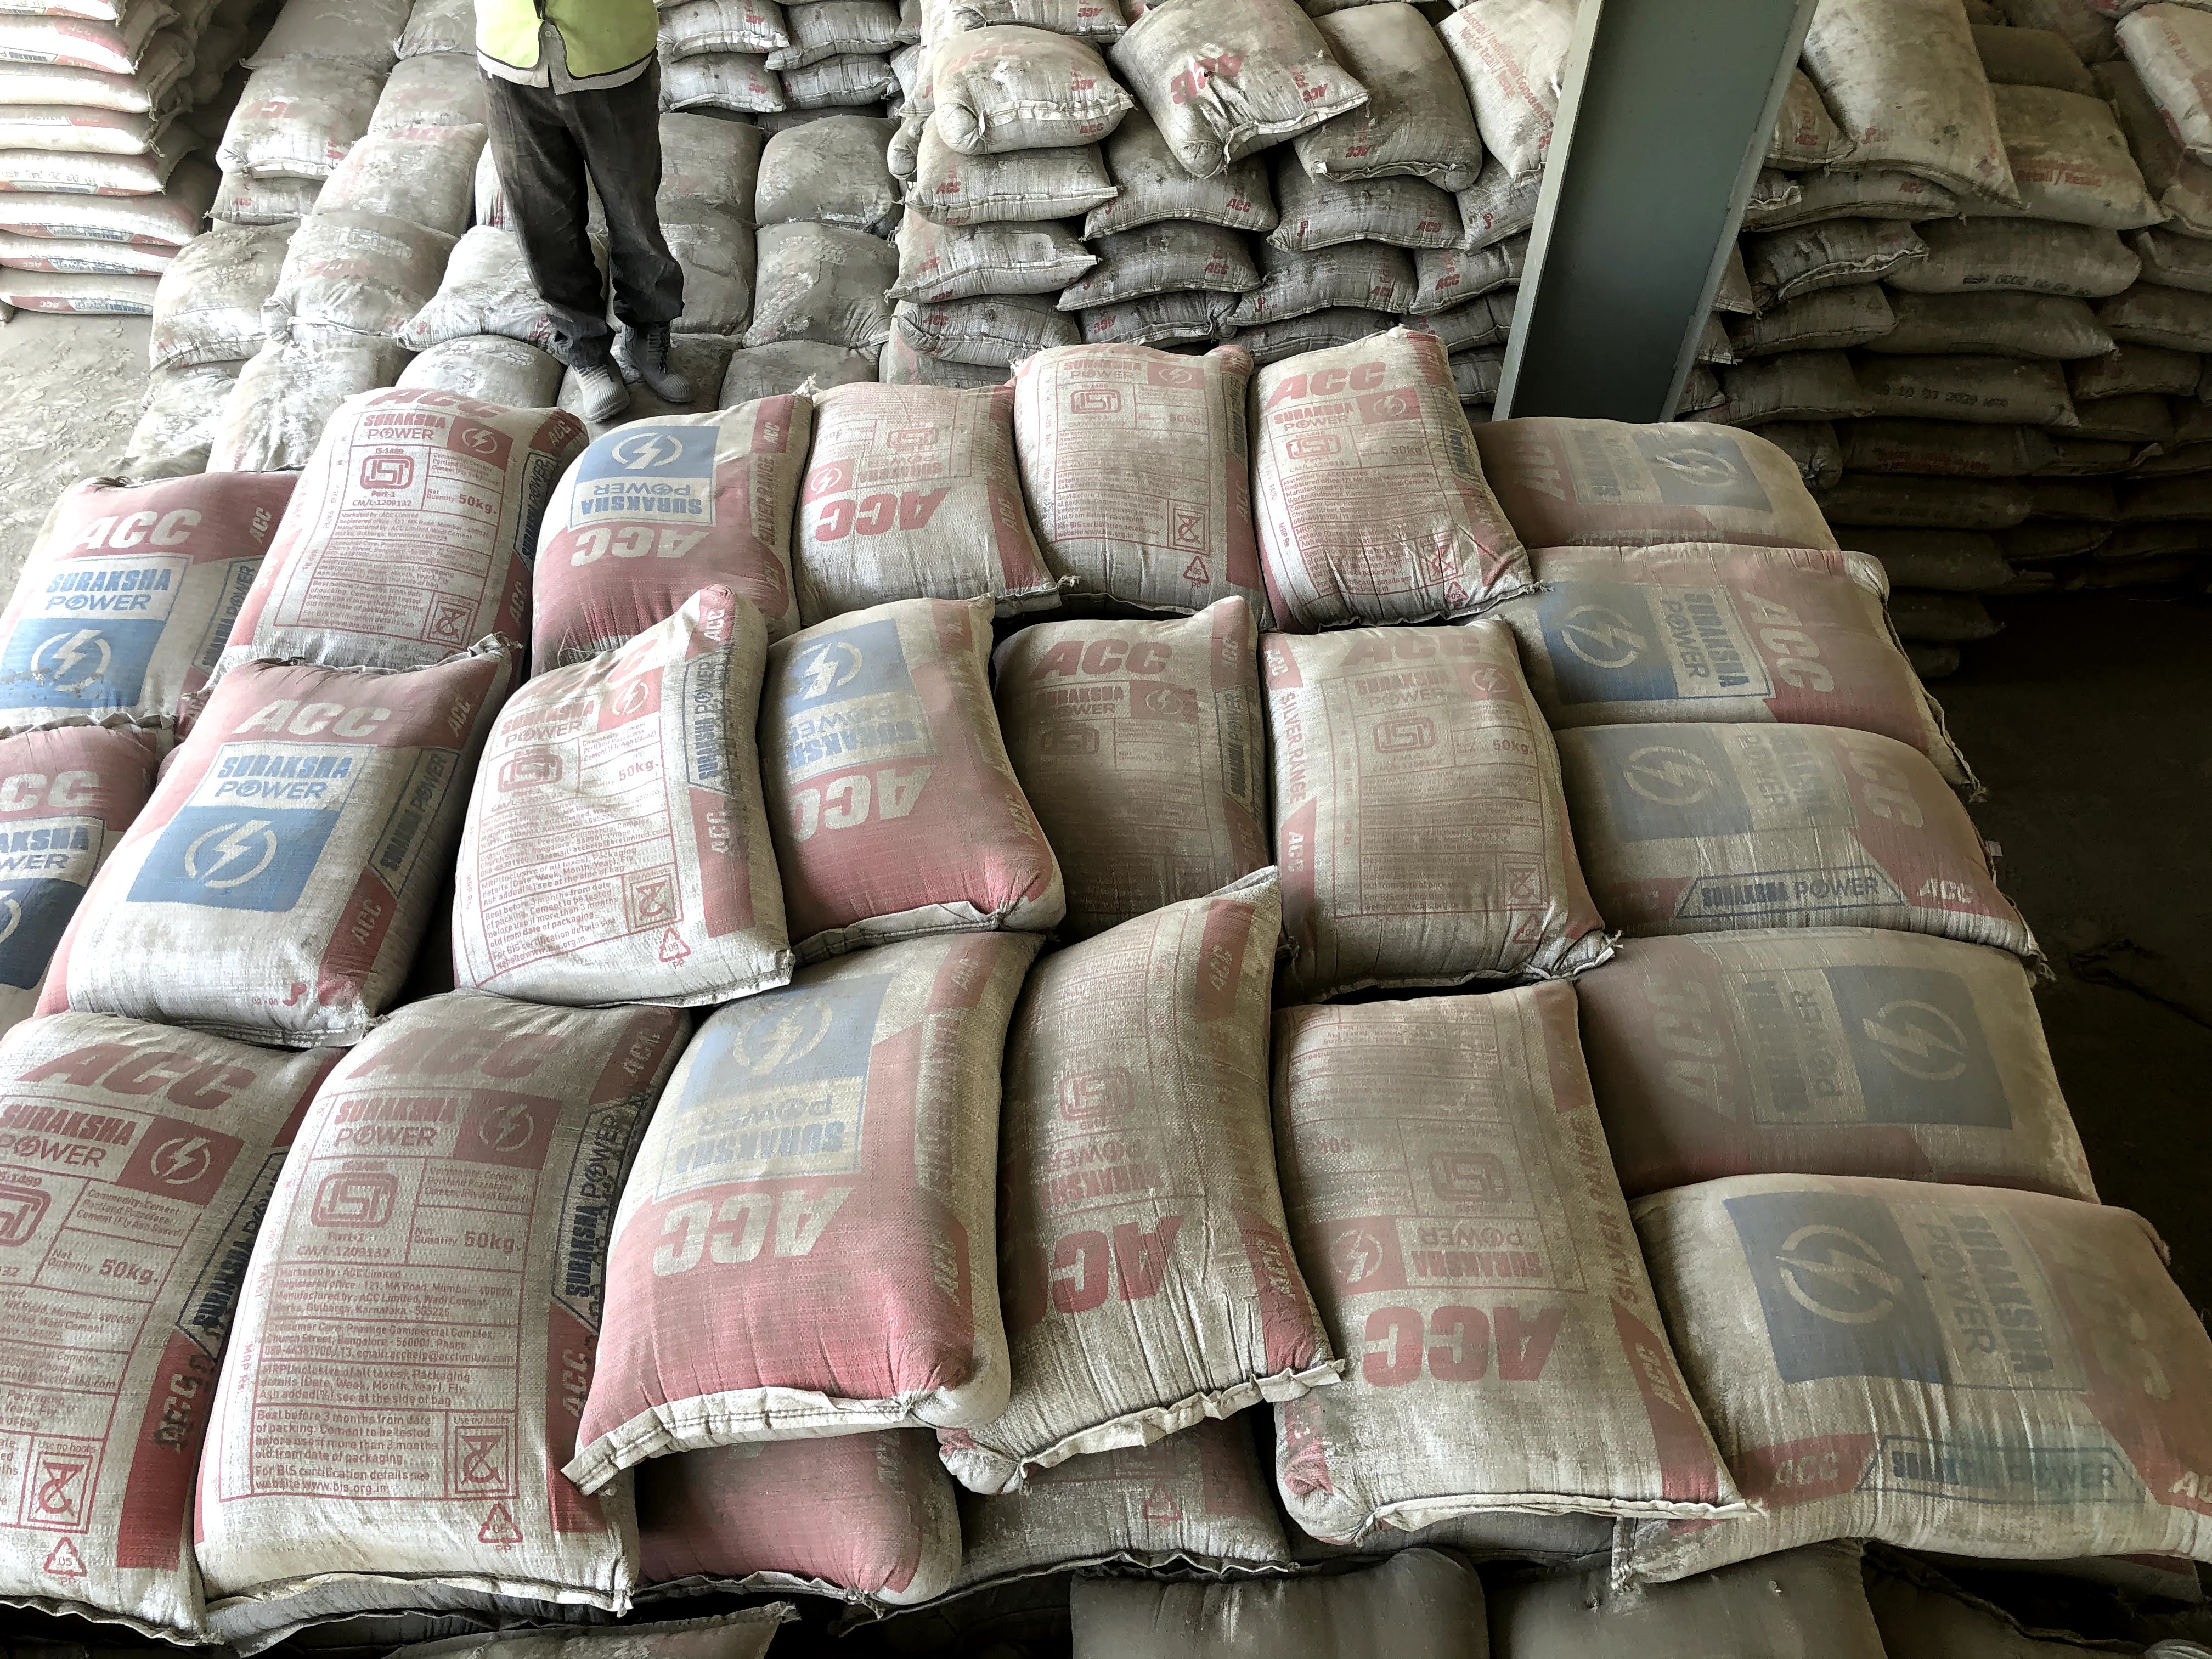cement bag: (1590, 1168, 2205, 1568), (1252, 1018, 1719, 1511), (589, 938, 981, 1450), (317, 995, 622, 1565), (981, 938, 1308, 1406), (10, 1009, 249, 1631), (103, 674, 489, 976), (1562, 723, 2029, 943), (1590, 943, 2029, 1168), (1028, 626, 1296, 927), (998, 380, 1270, 633), (1296, 587, 1494, 927), (489, 674, 792, 890), (792, 626, 1028, 890), (289, 369, 503, 655), (1475, 403, 1864, 554), (1244, 356, 1494, 587), (35, 427, 235, 709), (1562, 554, 1864, 723), (789, 380, 998, 617), (554, 416, 789, 617)
